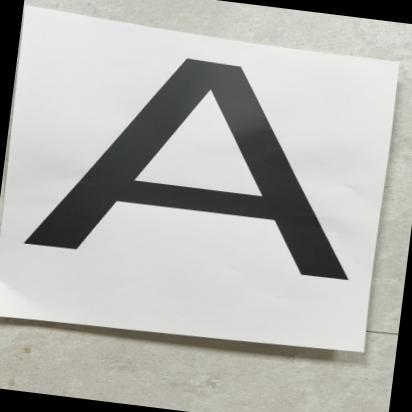seat: (13, 30, 379, 296)
